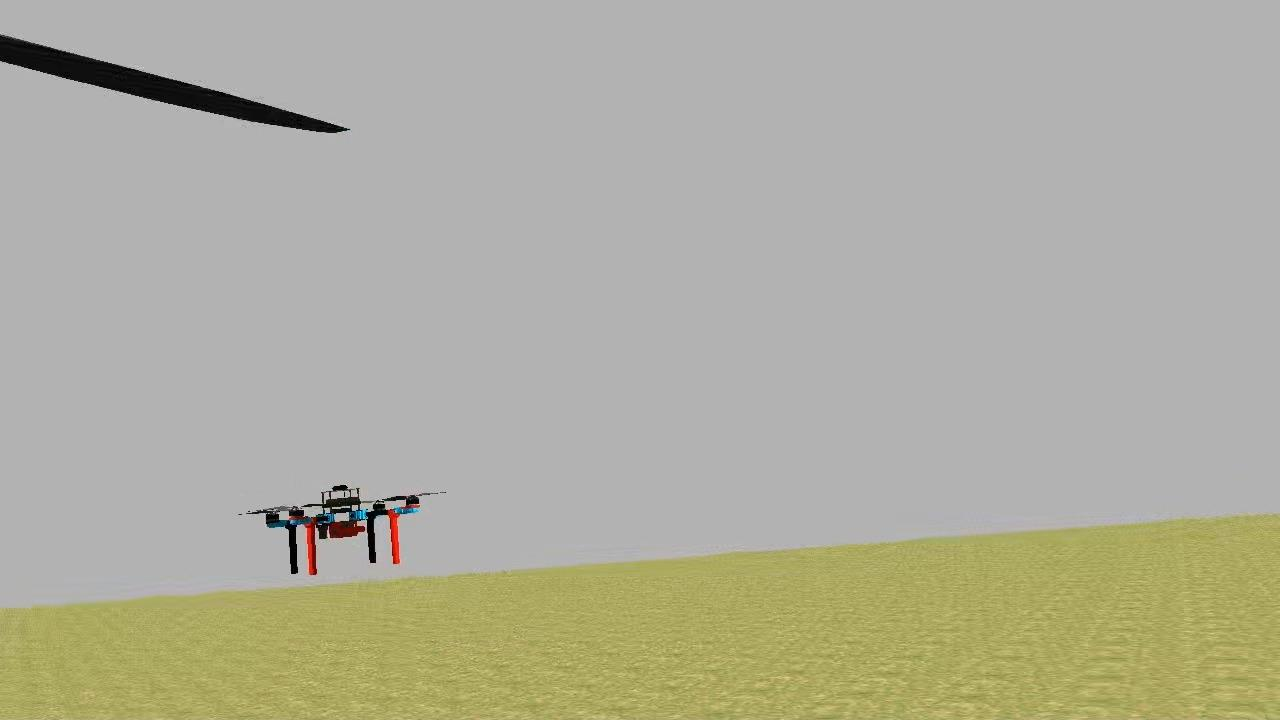UAV: (260, 476, 420, 582)
